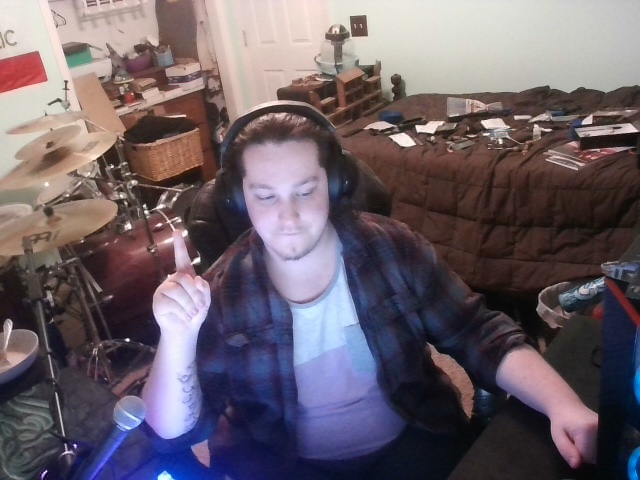up: (130, 211, 227, 341)
